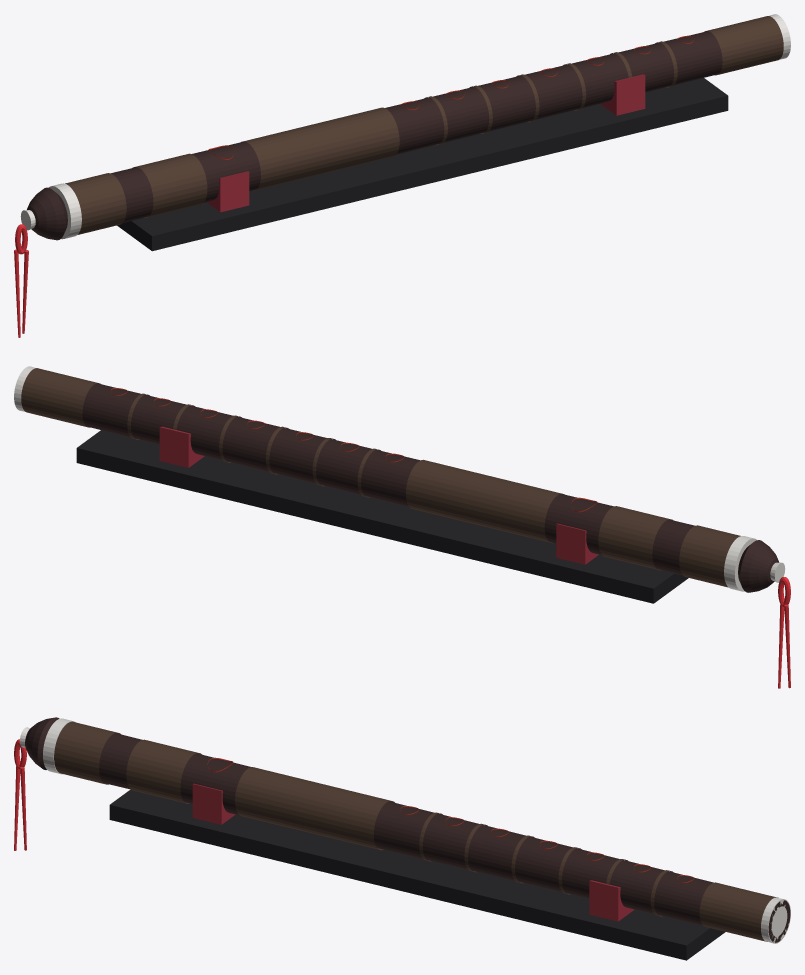
File: gakki_ryuteki.glb
3 views of the same model, one above another, from view 1: azimuth 30°, elevation 25°; view 2: azimuth 150°, elevation 25°; view 3: azimuth 330°, elevation 25° (orthographic).
Parts seen in each view (by area): view 1: StandBase, Ryuteki_MainTube, WrappingBand_2, WrappingBand_1, WrappingBand_9, WrappingBand_0, CrownPlug, RestPillar_0.22, RestPillar_0.0, HeadCollar; view 2: StandBase, Ryuteki_MainTube, WrappingBand_2, WrappingBand_1, WrappingBand_9, WrappingBand_0, CrownPlug, RestPillar_0.22, RestPillar_0.0, HeadCollar; view 3: StandBase, Ryuteki_MainTube, WrappingBand_2, WrappingBand_1, WrappingBand_9, WrappingBand_0, RestPillar_0.22, RestPillar_0.0, FootCollar, CrownPlug, HeadCollar.
Boxes of the visible parts, x1,y1,x2,y2 form: StandBase: [117, 78, 728, 251]; Ryuteki_MainTube: [111, 31, 722, 222]; WrappingBand_2: [241, 107, 399, 190]; WrappingBand_1: [132, 153, 207, 217]; WrappingBand_9: [704, 16, 783, 75]; WrappingBand_0: [65, 173, 126, 234]; CrownPlug: [27, 187, 67, 240]; RestPillar_0.22: [600, 74, 645, 115]; RestPillar_0.0: [207, 171, 249, 212]; HeadCollar: [48, 183, 81, 239]; StandBase: [76, 430, 688, 603]; Ryuteki_MainTube: [82, 383, 694, 575]; WrappingBand_2: [406, 459, 564, 543]; WrappingBand_1: [598, 506, 673, 570]; WrappingBand_9: [21, 368, 100, 427]; WrappingBand_0: [679, 525, 740, 587]; CrownPlug: [738, 540, 779, 592]; RestPillar_0.22: [159, 426, 204, 467]; RestPillar_0.0: [556, 523, 598, 564]; HeadCollar: [724, 536, 757, 591]; StandBase: [109, 789, 725, 960]; Ryuteki_MainTube: [99, 733, 790, 942]; WrappingBand_2: [235, 767, 394, 850]; WrappingBand_1: [126, 739, 201, 803]; WrappingBand_9: [699, 882, 778, 941]; WrappingBand_0: [54, 721, 120, 784]; RestPillar_0.22: [589, 880, 634, 921]; RestPillar_0.0: [192, 783, 235, 824]; FootCollar: [761, 897, 790, 943]; CrownPlug: [25, 717, 59, 769]; HeadCollar: [43, 718, 75, 774].
Size of the model in its own units: 1.95 by 0.3381 by 0.1838.
